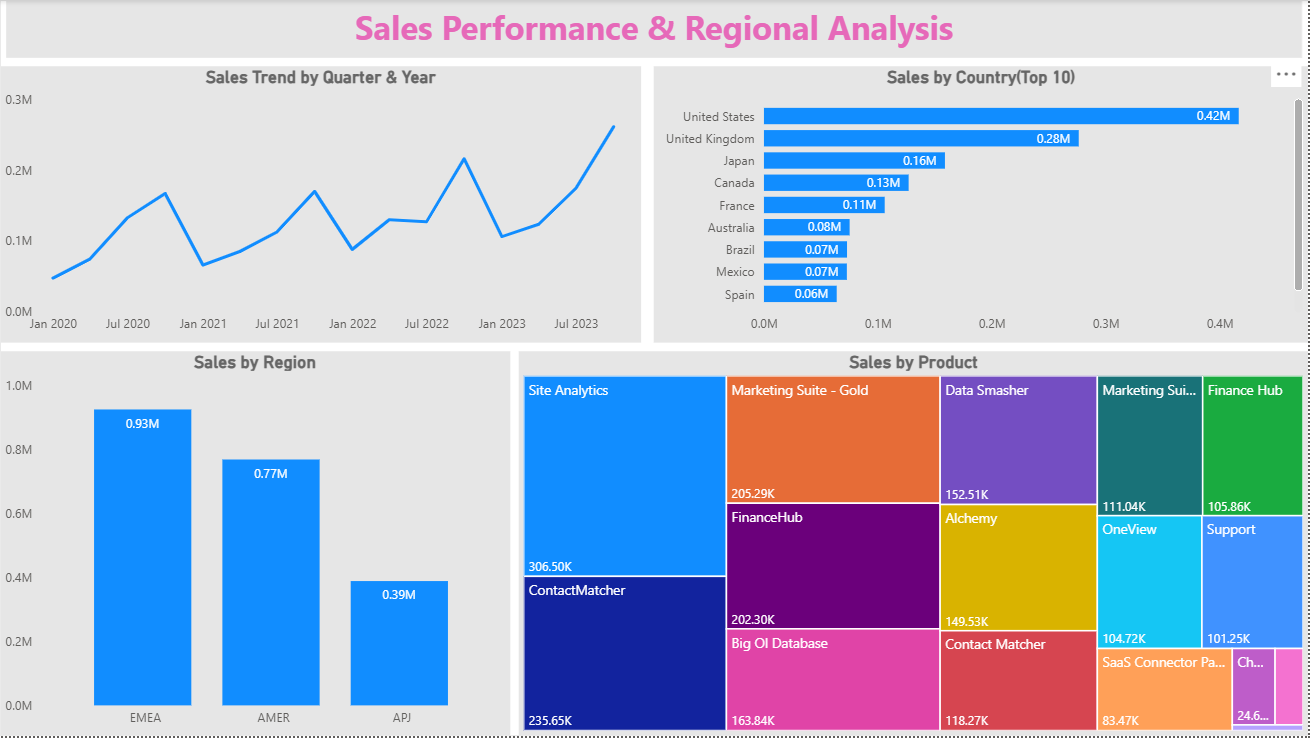

This screenshot's page, from the dashboard's own definition file:
{"tool":"powerbi","page":{"name":"Sales and Regional Performance","canvas":[1280,720],"ordinal":1},"visuals":[{"type":"columnChart","title":"Sales by Region","fields":{"Category":["SaaS-Sales.Region"],"Y":["SaaS-Sales.Total Sales"]},"box":[0,343.6,498.9,376.6],"z":0,"group":"g1"},{"type":"group","id":"g1","title":"Group 1","box":[0,0,1280,720.2],"z":1000},{"type":"clusteredBarChart","title":" Sales by Country(Top 10)","fields":{"Category":["SaaS-Sales.Country"],"Y":["Sum(SaaS-Sales.Sales)"]},"box":[640,65,640,270],"z":1000,"group":"g1"},{"type":"treemap","title":"Sales by Product","fields":{"Group":["SaaS-Sales.Product"],"Values":["SaaS-Sales.Total Sales"]},"box":[507.5,343.8,772.5,376.2],"z":2000,"group":"g1"},{"type":"lineChart","title":"Sales Trend by Quarter & Year","fields":{"Category":["SaaS-Sales.Order Date.Variation.Date Hierarchy.Year","SaaS-Sales.Order Date.Variation.Date Hierarchy.Quarter"],"Y":["SaaS-Sales.Total Sales"]},"box":[0,65,627.5,270],"z":3000,"group":"g1"},{"type":"textbox","box":[6.2,0,1267.5,56.2],"z":4000,"group":"g1"}]}

Visuals, with their boxes in screenshot pixels (x1, y1, x2, y2), scaled from the page's 1280x720 canvas onto the 1310x738 screenshot:
"Sales by Region" columnChart: <box>0,352,511,737</box>
"Group 1" group: <box>0,0,1309,737</box>
" Sales by Country(Top 10)" clusteredBarChart: <box>655,67,1309,343</box>
"Sales by Product" treemap: <box>519,352,1309,737</box>
"Sales Trend by Quarter & Year" lineChart: <box>0,67,642,343</box>
textbox: <box>6,0,1304,58</box>
